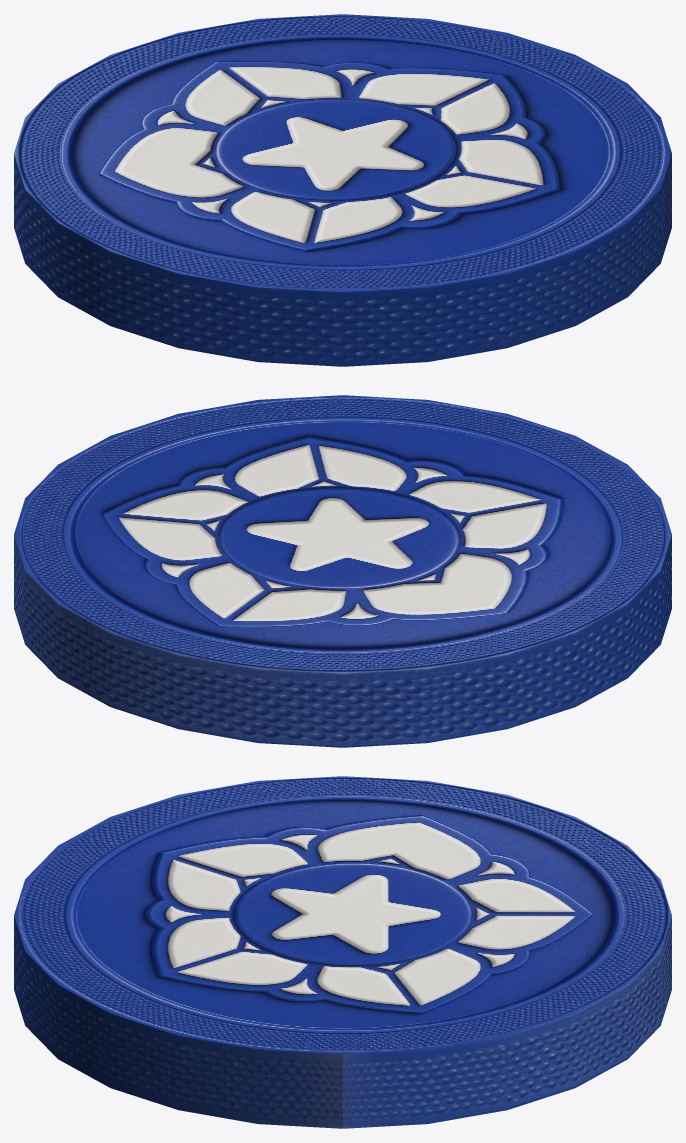
Rendered from blue-checker.glb.
3 views of the same model, one above another, from view 1: azimuth 30°, elevation 25°; view 2: azimuth 150°, elevation 25°; view 3: azimuth 270°, elevation 25° (orthographic).
Visible parts, largest first — view 1: Blue star checker | 40mm x 5mm | 92 tris; view 2: Blue star checker | 40mm x 5mm | 92 tris; view 3: Blue star checker | 40mm x 5mm | 92 tris.
Part boxes in pixels (left/top/right/bottom): Blue star checker | 40mm x 5mm | 92 tris: left=14, top=14, right=671, bottom=366; Blue star checker | 40mm x 5mm | 92 tris: left=14, top=395, right=671, bottom=747; Blue star checker | 40mm x 5mm | 92 tris: left=14, top=776, right=671, bottom=1128.
Bounding box in the file's own units: 0.04 × 0.005 × 0.04.
3 materials, 2 textured.
